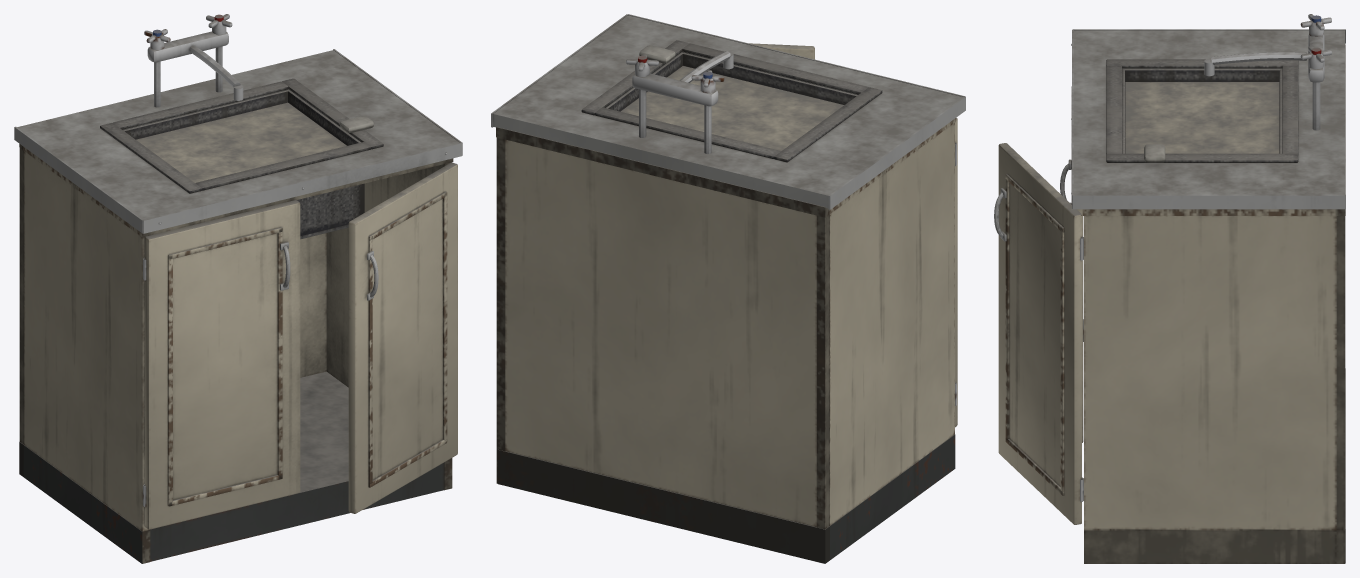
The model's file is SM_KitchenSink_Cabinet.fbx.
3 renders of one model, left to right at view 1: azimuth 30°, elevation 25°; view 2: azimuth 150°, elevation 25°; view 3: azimuth 270°, elevation 25°, orthographic. The views are drawn at different scales.
Visible parts, largest first — view 1: SM_KitchenSink_Cabinet; view 2: SM_KitchenSink_Cabinet; view 3: SM_KitchenSink_Cabinet.
Part boxes in pixels (x1,y1,x2,y2): SM_KitchenSink_Cabinet: [14, 14, 462, 563]; SM_KitchenSink_Cabinet: [491, 14, 965, 563]; SM_KitchenSink_Cabinet: [994, 14, 1345, 563].
Bounding box in the file's own units: 0.828 × 1.04 × 0.74.
Materials: 1 (1 with a texture image).
